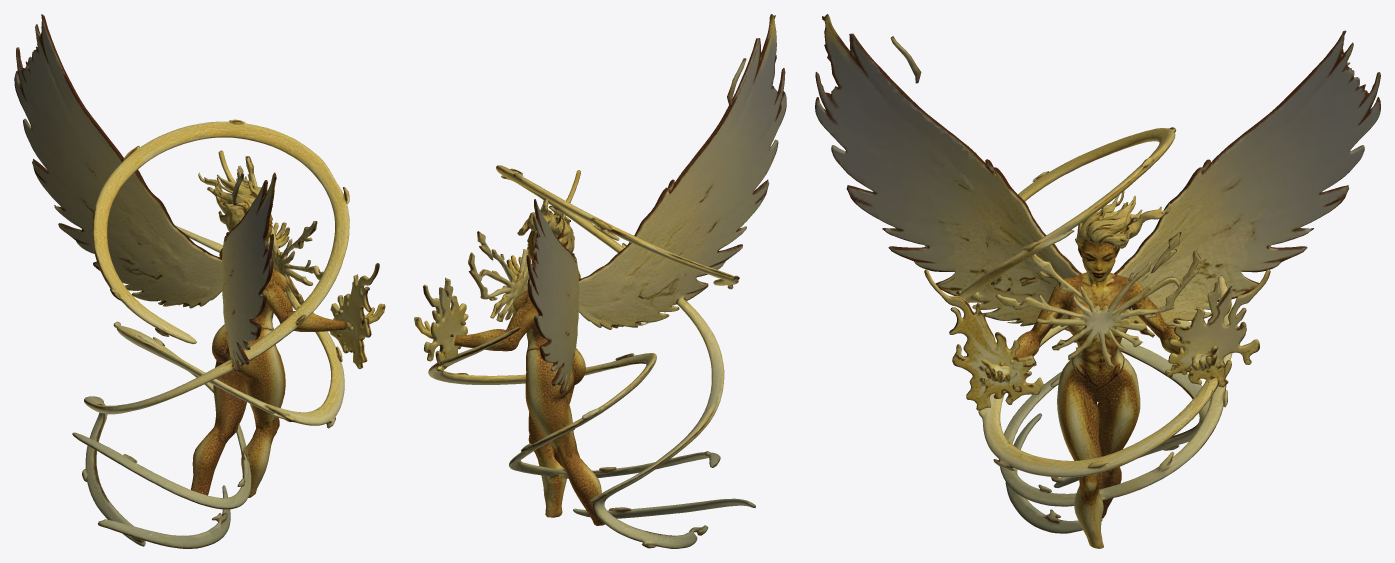
Rendered from solaris3d.glb.
3 renders of one model, left to right at view 1: azimuth 30°, elevation 25°; view 2: azimuth 150°, elevation 25°; view 3: azimuth 270°, elevation 25°, orthographic. The views are drawn at different scales.
Visible parts, largest first — view 1: tripo_node_9e240c2e-069a-4105-9bb1-22d6c291b24d; view 2: tripo_node_9e240c2e-069a-4105-9bb1-22d6c291b24d; view 3: tripo_node_9e240c2e-069a-4105-9bb1-22d6c291b24d.
Boxes of the visible parts, <box> form: tripo_node_9e240c2e-069a-4105-9bb1-22d6c291b24d: <box>14,14,385,548</box>; tripo_node_9e240c2e-069a-4105-9bb1-22d6c291b24d: <box>414,14,786,548</box>; tripo_node_9e240c2e-069a-4105-9bb1-22d6c291b24d: <box>815,14,1380,548</box>.
Bounding box in the file's own units: 0.6136 × 0.9551 × 1.
Materials: 1 (1 with a texture image).
